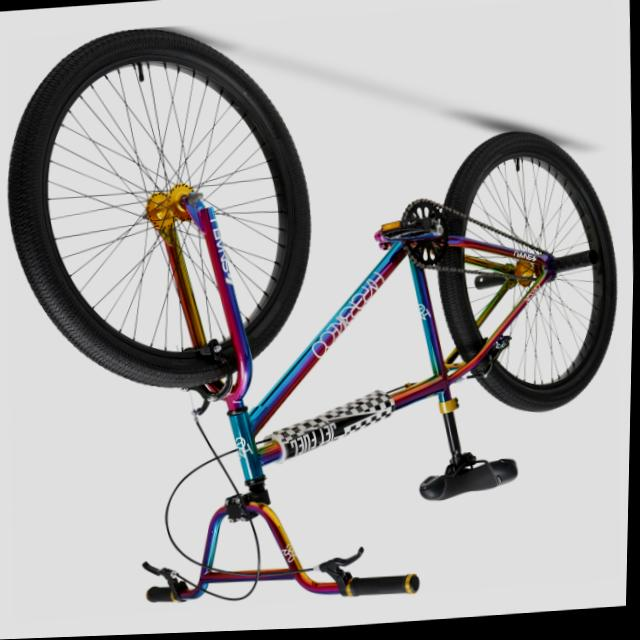bmx-bike: (0, 0, 637, 626)
